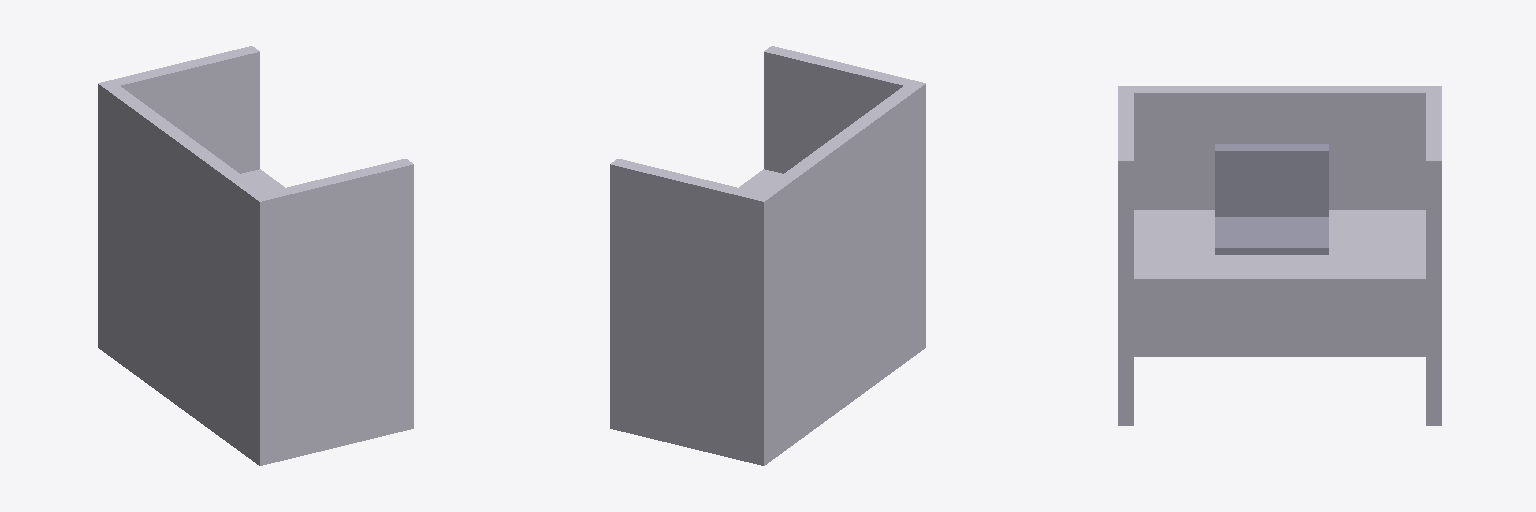
Rendered from desk2.model.obj.
3 renders of one model, left to right at view 1: azimuth 30°, elevation 25°; view 2: azimuth 150°, elevation 25°; view 3: azimuth 270°, elevation 25°, orthographic.
Bounding box in the file's own units: 1.1 × 1.8 × 2.